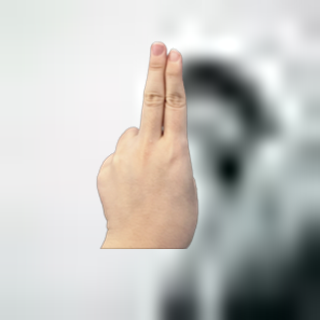DHAVE: (90, 37, 205, 244)
